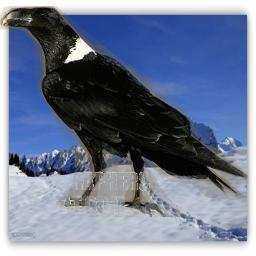Crow: (0, 6, 249, 217)
